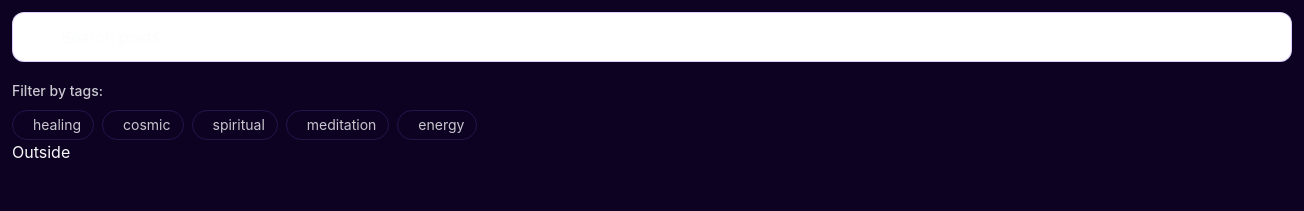
SearchFilter › Search Suggestions › hides suggestions when clicking outside
Type "heal" into the field with placeholder "Search posts..." at (652, 37), box x1=12 y1=12 x2=1292 y2=62
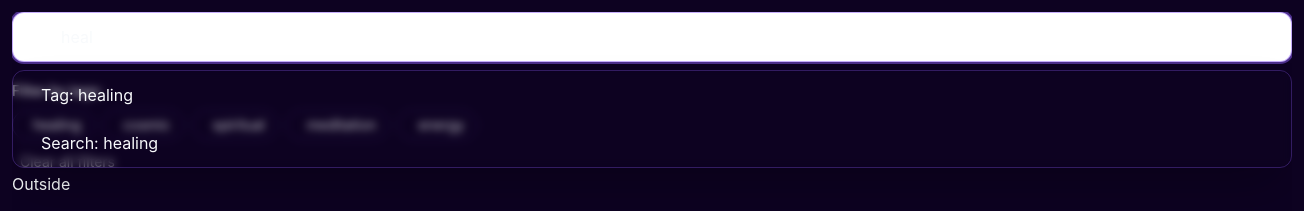
Expected: the text "Tag: healing" is shown, x1=41 y1=83 x2=133 y2=107
Click the text with test id "outside" at (41, 184), box x1=12 y1=174 x2=70 y2=194
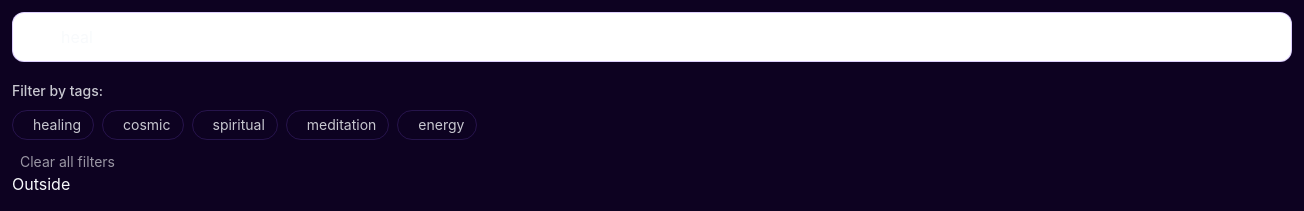
Expected: the button "Tag: healing" is gone
